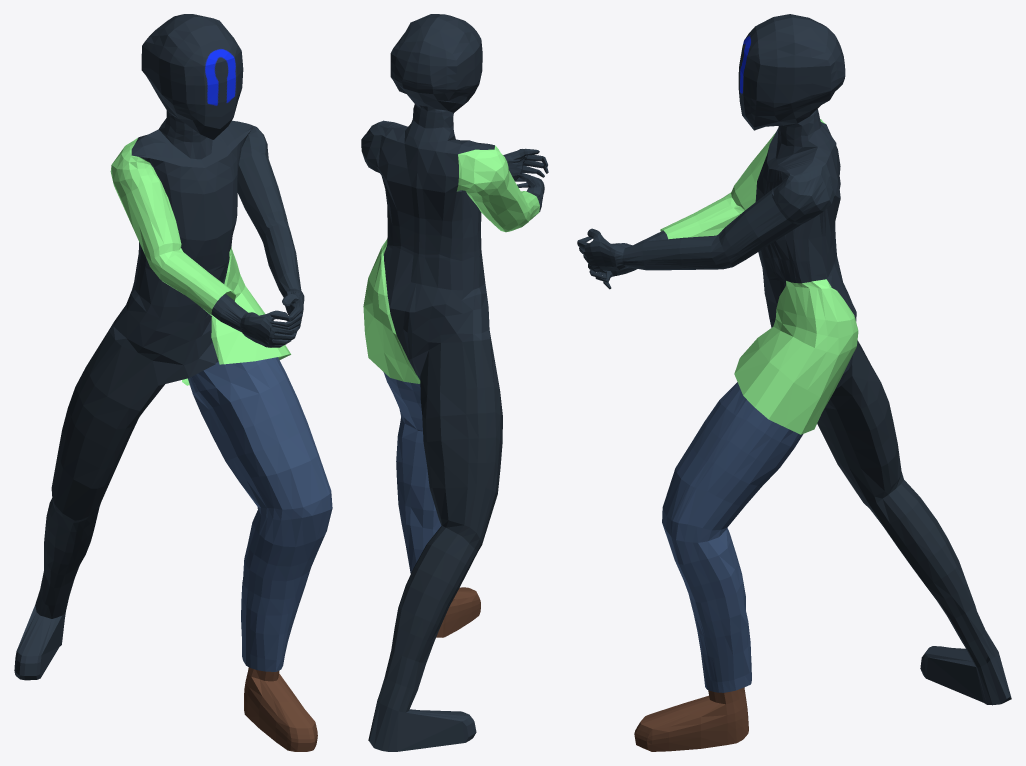
Rendered from Mar_WR_000031.obj.
The picture shows the model from 3 angles, left to right: view 1: azimuth 30°, elevation 25°; view 2: azimuth 150°, elevation 25°; view 3: azimuth 270°, elevation 25°; orthographic projection. The views are drawn at different scales.
Parts seen in each view (by area): view 1: Cube.000_Cube.001; view 2: Cube.000_Cube.001; view 3: Cube.000_Cube.001.
Boxes of the visible parts, x1,y1,x2,y2 form: Cube.000_Cube.001: [14, 14, 332, 751]; Cube.000_Cube.001: [361, 14, 548, 751]; Cube.000_Cube.001: [577, 14, 1011, 751].
Size of the model in its own units: 1.09 by 3.73 by 2.07.
